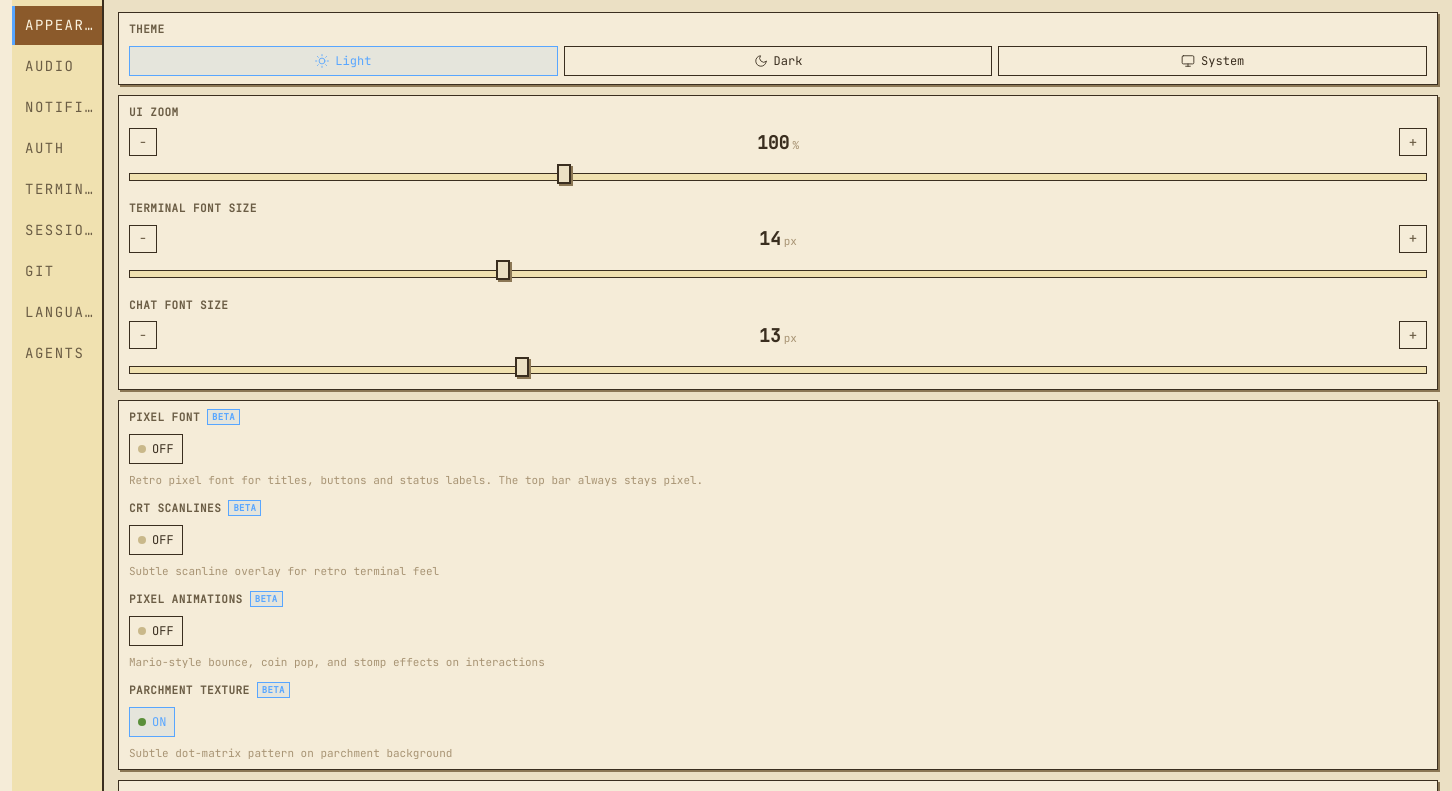
Scenario: Settings session display (expand thinking + collapsed mode) › shows the collapsed-mode row with 完全隐藏 active by default when 展开思考 is off
The image size is (1452, 791).
Click the button with class "settings-tab" showing "SESSIONS". click: {"x": 57, "y": 230}
box: 12,211 -> 102,250
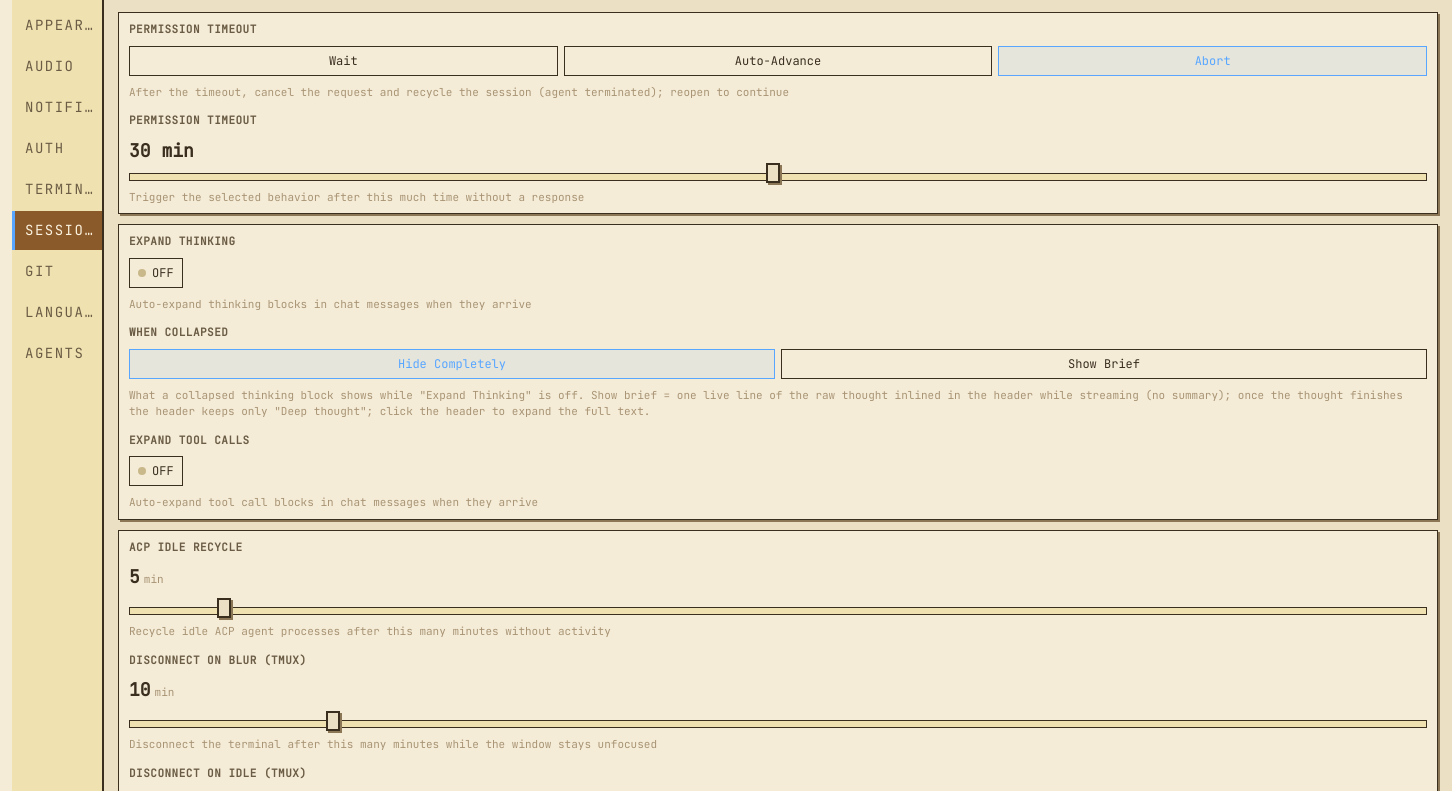
Now the element that starts with "When Collapsed" is shown, box 129,324 -> 1427,420
Now the button "Hide Completely" is shown, box 129,348 -> 775,378
Now the button "Show Brief" is shown, box 781,348 -> 1427,378
